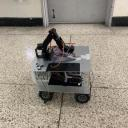cart: (31, 46, 92, 104)
